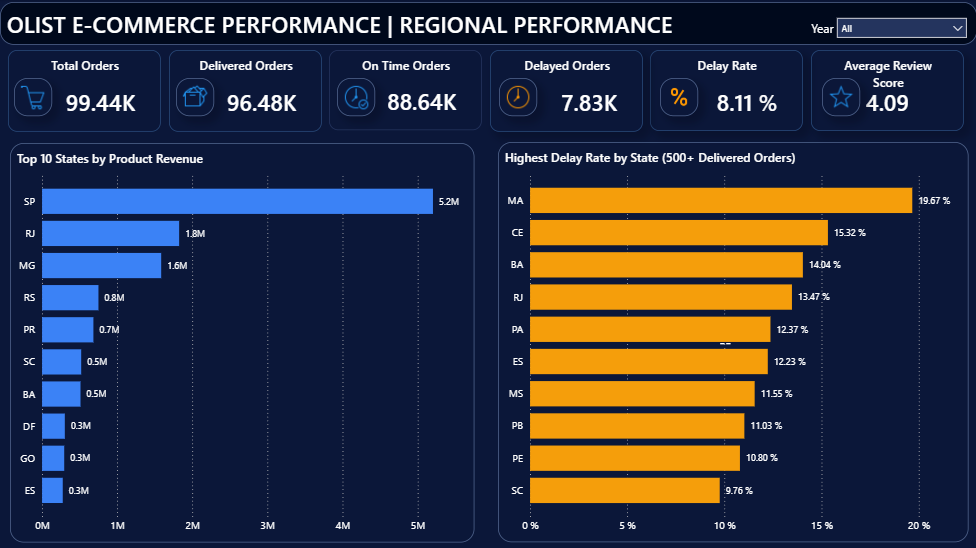

What the dashboard file says about the page in this screenshot:
{"tool":"powerbi","page":{"name":"Regional Performance","canvas":[1280,720],"ordinal":3},"visuals":[{"type":"cardVisual","title":"On Time Orders","fields":{"Data":["analytics fact_orders.On Time Orders"]},"box":[432.3,66.8,200,105],"z":0},{"type":"cardVisual","title":"Total Orders","fields":{"Data":["analytics fact_orders.Total Orders Card"]},"box":[11.8,66.8,200,107.3],"z":1000},{"type":"cardVisual","title":"Delivered Orders","fields":{"Data":["analytics fact_orders.Delivered Orders Card"]},"box":[222,66.8,200,106.7],"z":2000},{"type":"cardVisual","title":"Delay Rate ","fields":{"Data":["analytics fact_orders.delay rate %"]},"box":[852.7,66.8,200,106],"z":3000},{"type":"cardVisual","fields":{"Data":["analytics fact_orders.average review score"]},"box":[1063,66.8,200,106],"z":4000},{"type":"textbox","title":"Score","box":[1136.4,90,59.1,33.6],"z":5000},{"type":"clusteredBarChart","title":"Top 10 States by Product Revenue","fields":{"Category":["analytics fact_sales.customer_state"],"Y":["analytics fact_sales.Product Revenue"]},"box":[14.4,188.6,607.7,522.7],"z":6000},{"type":"shape","title":"OLIST E-COMMERCE PERFORMANCE | REGIONAL PERFORMANCE","box":[1.3,4.3,1278.7,56.2],"z":7000},{"type":"textbox","box":[1033.9,20.2,87.8,49],"z":8000},{"type":"slicer","fields":{"Values":["analytics dim_date.year_number"]},"box":[1083.6,11.8,196.4,53.7],"z":9000},{"type":"cardVisual","title":"Delayed Orders","fields":{"Data":["analytics dim_date.Delayed Orders Display"]},"box":[642.5,66.8,200,106.6],"z":10000},{"type":"image","box":[442.9,103.8,50,50],"z":11000},{"type":"image","box":[20.2,103.8,50,50],"z":12000},{"type":"image","box":[865,103,50,50],"z":13000},{"type":"image","box":[1077.1,103.8,50,50],"z":14000},{"type":"image","box":[231.5,103.8,50,50],"z":15000},{"type":"image","box":[654.3,103.8,50,50],"z":16000},{"type":"cardVisual","fields":{"Data":["analytics dim_date.Regional No Data Message"]},"box":[745,358.4,412.2,176.6],"z":17000},{"type":"clusteredBarChart","title":"Highest Delay Rate by State (500+ Delivered Orders)","fields":{"Category":["analytics fact_orders.customer_state"],"Y":["analytics fact_orders.delay rate %"]},"box":[653.8,187.2,616.3,524.2],"z":18000}]}

Visuals, with their boxes in screenshot pixels (x1, y1, x2, y2), scaled from the page's 1280x720 canvas onto the 976x548 screenshot:
"On Time Orders" cardVisual: BBox(330, 51, 482, 131)
"Total Orders" cardVisual: BBox(9, 51, 161, 133)
"Delivered Orders" cardVisual: BBox(169, 51, 322, 132)
"Delay Rate " cardVisual: BBox(650, 51, 803, 132)
cardVisual - analytics fact_orders.average review score: BBox(811, 51, 963, 132)
"Score" textbox: BBox(867, 68, 912, 94)
"Top 10 States by Product Revenue" clusteredBarChart: BBox(11, 144, 474, 541)
"OLIST E-COMMERCE PERFORMANCE | REGIONAL PERFORMANCE" shape: BBox(1, 3, 975, 46)
textbox: BBox(788, 15, 855, 53)
slicer - analytics dim_date.year_number: BBox(826, 9, 975, 50)
"Delayed Orders" cardVisual: BBox(490, 51, 642, 132)
image: BBox(338, 79, 376, 117)
image: BBox(15, 79, 54, 117)
image: BBox(660, 78, 698, 116)
image: BBox(821, 79, 859, 117)
image: BBox(177, 79, 215, 117)
image: BBox(499, 79, 537, 117)
cardVisual - analytics dim_date.Regional No Data Message: BBox(568, 273, 882, 407)
"Highest Delay Rate by State (500+ Delivered Orders)" clusteredBarChart: BBox(499, 142, 968, 541)
